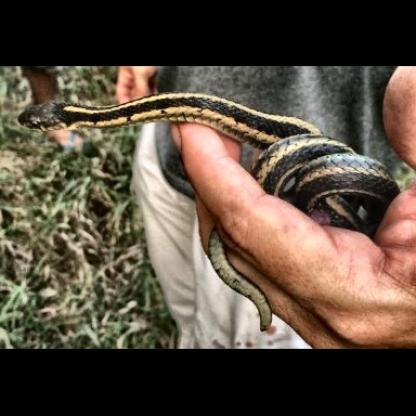Snake: (16, 96, 400, 245)
